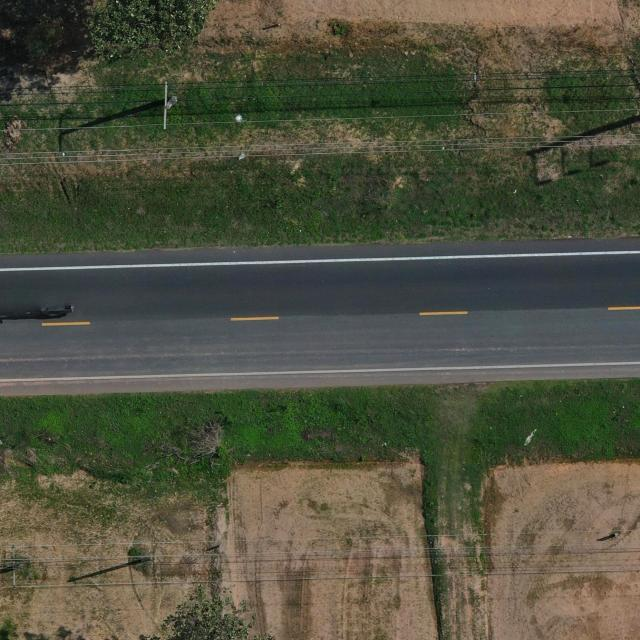Tree: (88, 0, 223, 61), (164, 583, 279, 640)
